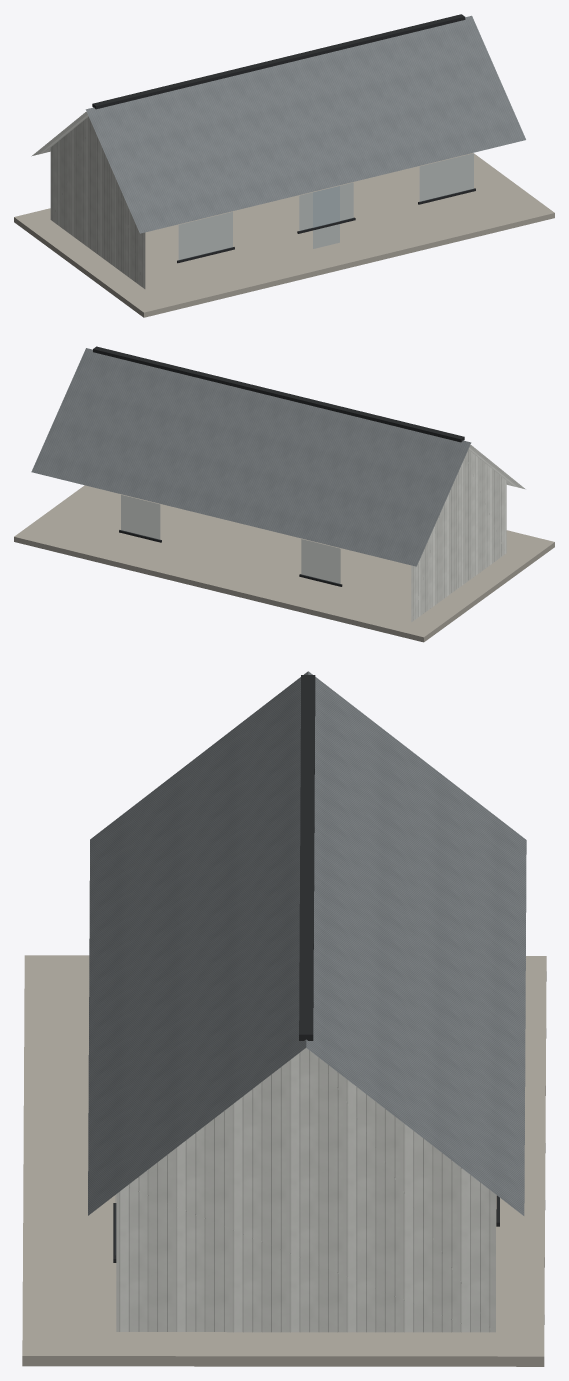
Rendered from pukaki-salmon-shop.glb.
3 views of the same model, one above another, from view 1: azimuth 30°, elevation 25°; view 2: azimuth 150°, elevation 25°; view 3: azimuth 270°, elevation 25° (orthographic). The views are drawn at different scales.
Visible parts, largest first — view 1: Pukaki_salmon_shop; view 2: Pukaki_salmon_shop; view 3: Pukaki_salmon_shop.
Part boxes in pixels (x1,y1,x2,y2): Pukaki_salmon_shop: [14, 14, 554, 317]; Pukaki_salmon_shop: [14, 346, 554, 642]; Pukaki_salmon_shop: [22, 671, 546, 1366].
Bounding box in the file's own units: 16.68 × 6.04 × 9.21.
Materials: 6 (2 with a texture image).
